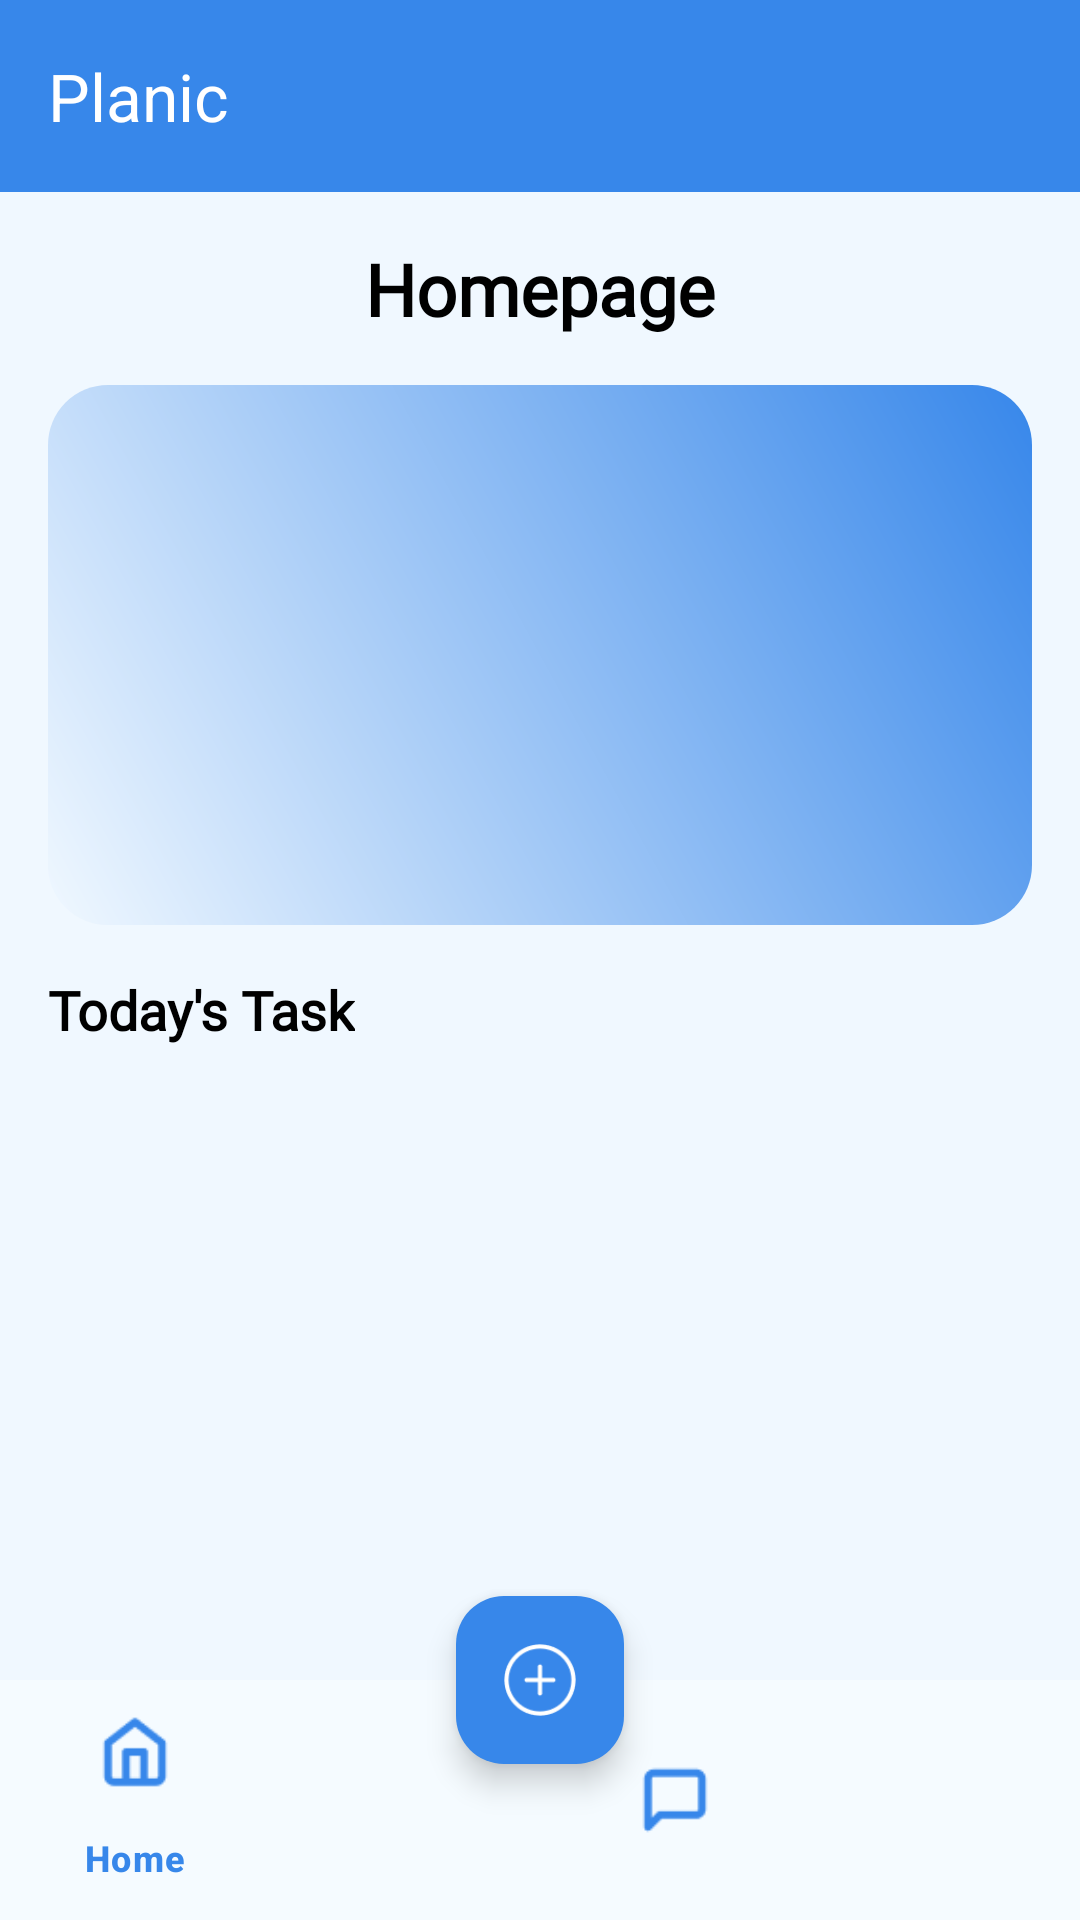

Icons on this 1080×1920 Android screen, each with the point to tap as (x=x, y=y):
add: (x=540, y=1680)
